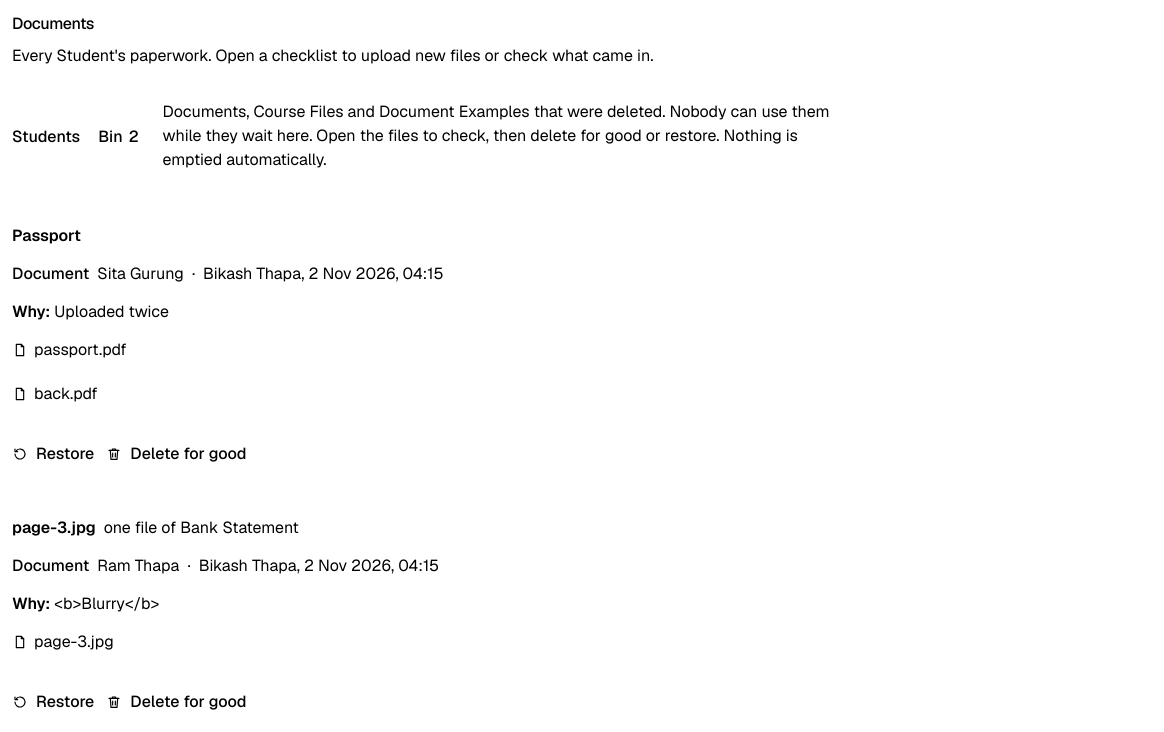
the Bin tab (Admins, issue 79) › restores an item and says so
Click the button named "Restore Passport" at point(53, 454), box [12, 432, 94, 476]
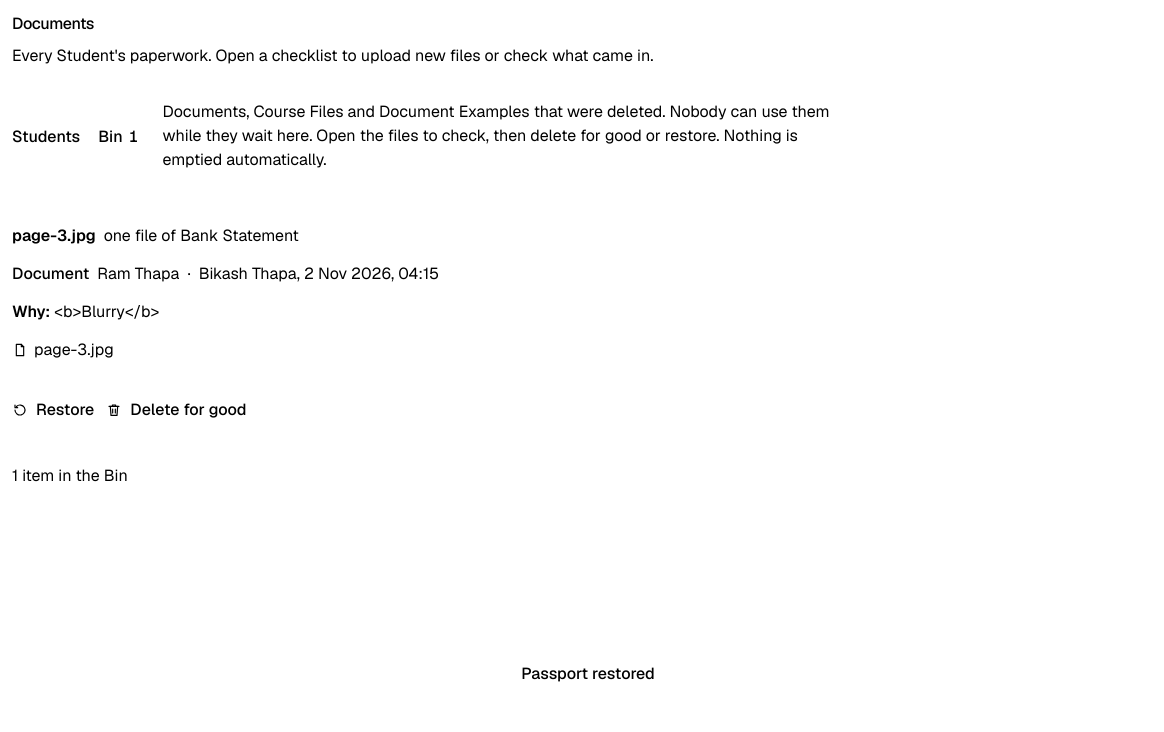
Expected: the button "Restore Passport" is not shown
Now the text "Passport restored" is shown, box [521, 663, 655, 684]
